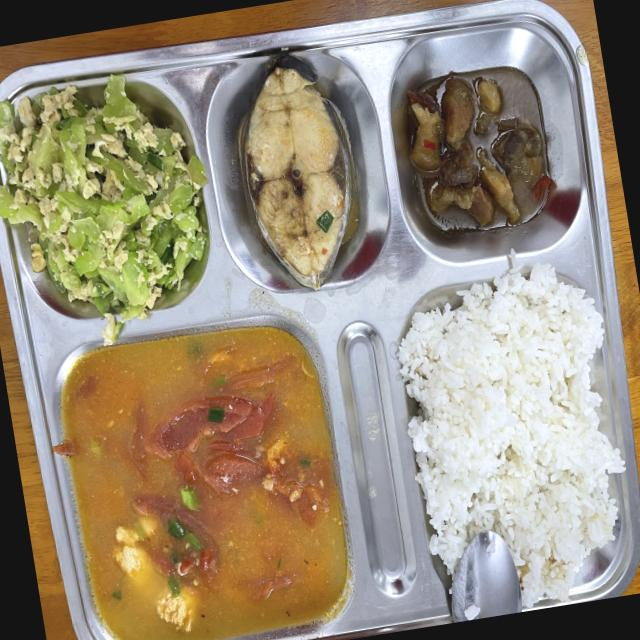ca kho: (246, 67, 348, 289)
com: (398, 264, 626, 605)
kho qua: (0, 74, 207, 344)
kho tieu: (407, 77, 552, 228)
